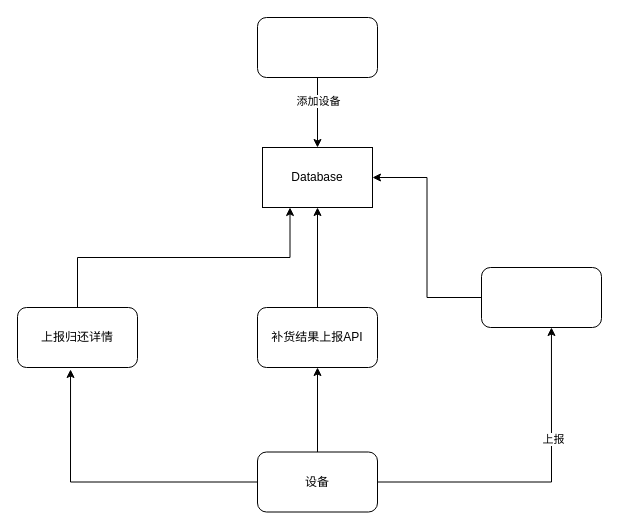
Some shapes in this 619 by 530 pixel diagram are drawn without their labels. Each missing label, with the centre of its shape:
"后台" belongs at pixel 317 47.
"获取补货单API" belongs at pixel 541 297.
